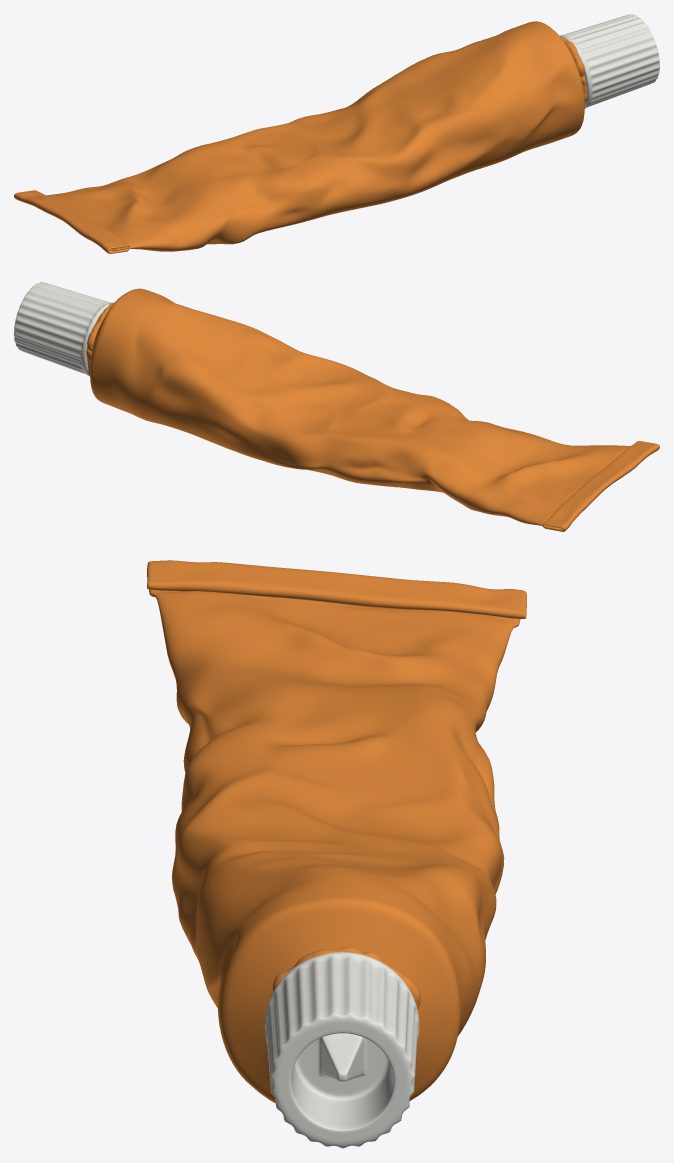
The model's file is paint_container_tube_d02.glb.
3 views of the same model, one above another, from view 1: azimuth 30°, elevation 25°; view 2: azimuth 150°, elevation 25°; view 3: azimuth 270°, elevation 25° (orthographic). The views are drawn at different scales.
Bounding box in the file's own units: 0.1214 × 0.0225 × 0.0343.
